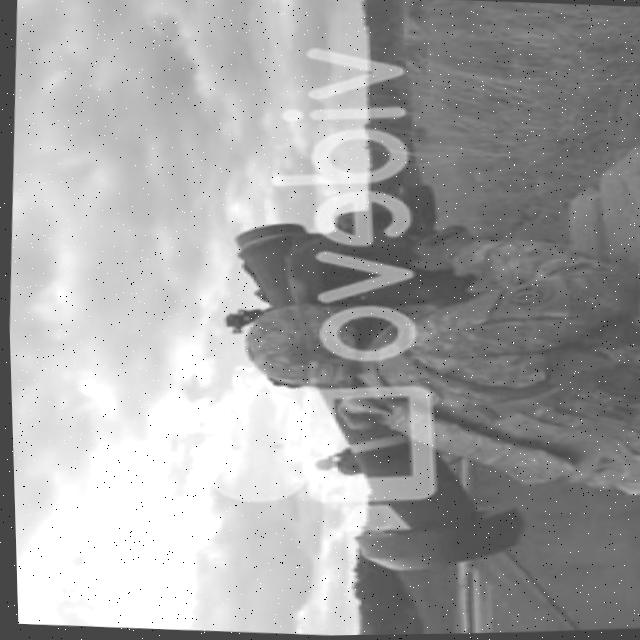rocket: (218, 207, 535, 586)
